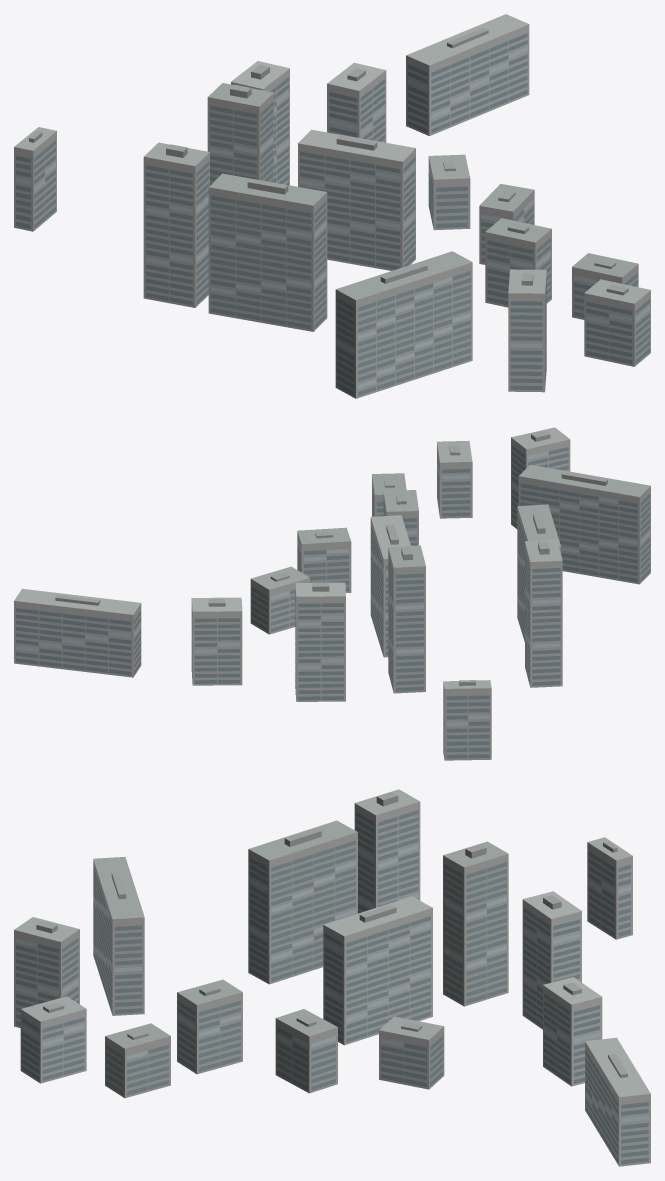
Rendered from apt-a13676101.glb.
3 renders of one model, top to bottom at view 1: azimuth 30°, elevation 25°; view 2: azimuth 150°, elevation 25°; view 3: azimuth 270°, elevation 25°, orthographic. The views are drawn at different scales.
Visible parts, largest first — view 1: apt-a13676101; view 2: apt-a13676101; view 3: apt-a13676101.
Part boxes in pixels (left/top/right/bottom): apt-a13676101: left=14, top=14, right=650, bottom=398; apt-a13676101: left=14, top=427, right=650, bottom=760; apt-a13676101: left=14, top=789, right=650, bottom=1166.
Bounding box in the file's own units: 207 × 56 × 222.
